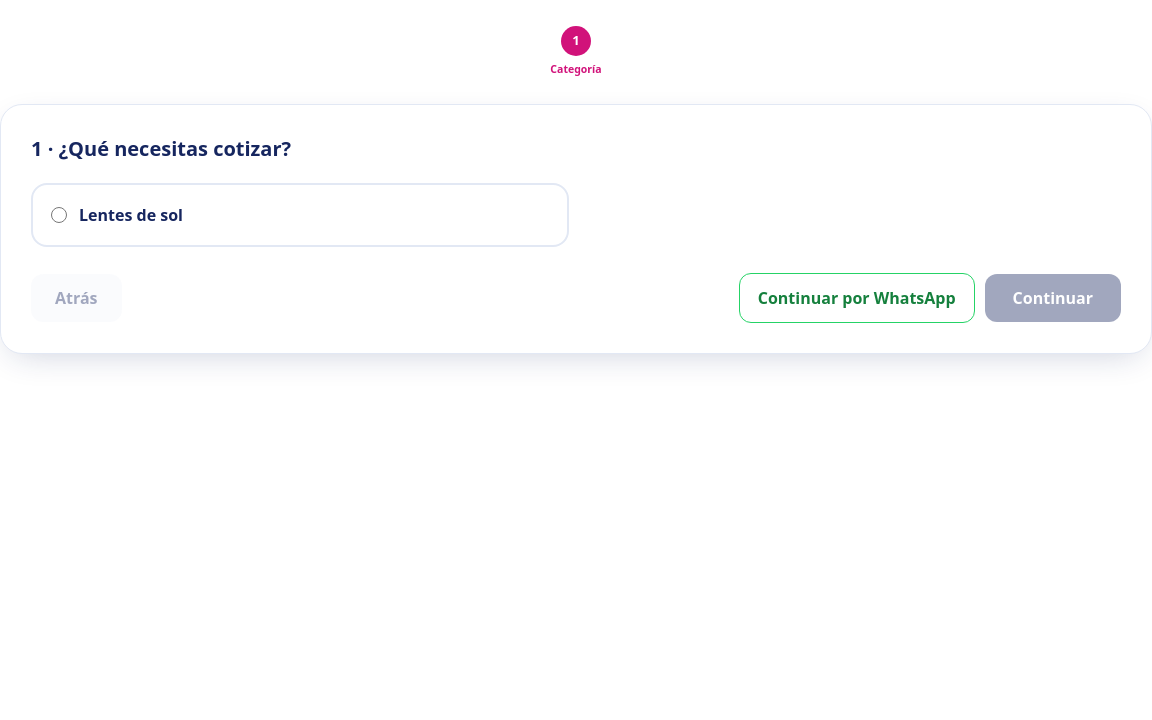
components/quote/QuoteWizard › flujo solar: el paso de cristal muestra Sin graduación/Solar monofocal/Solar progresivo, nunca Bifocal
Click the radio button labelled "Lentes de sol".
click(59, 215)  # box [51,207,67,223]
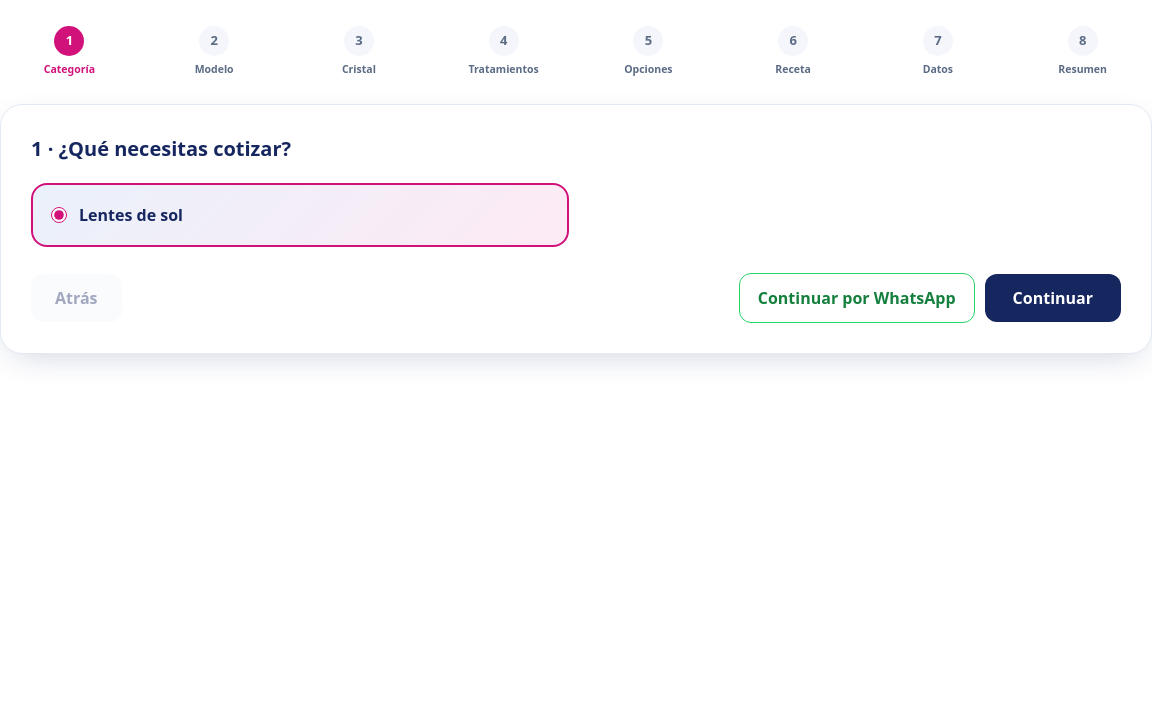
Click the button "Continuar".
click(1053, 298)  # box [985,274,1121,322]
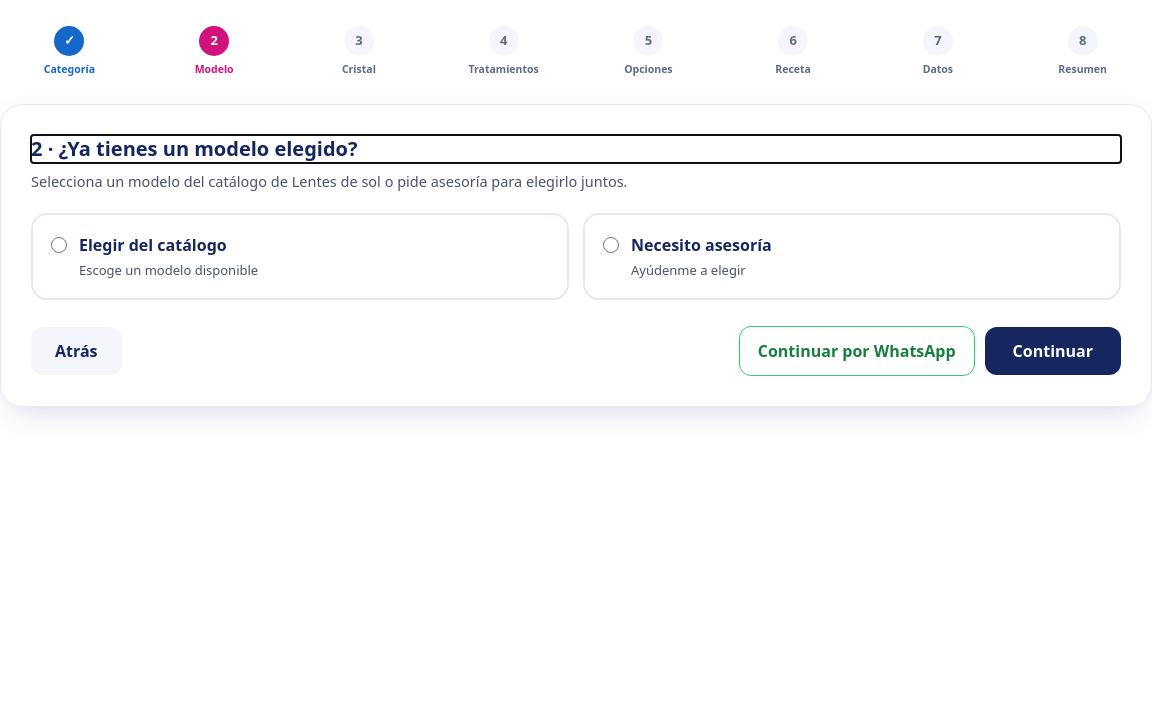
Click the radio button labelled "Necesito asesoría".
click(611, 244)  # box [603,236,619,252]
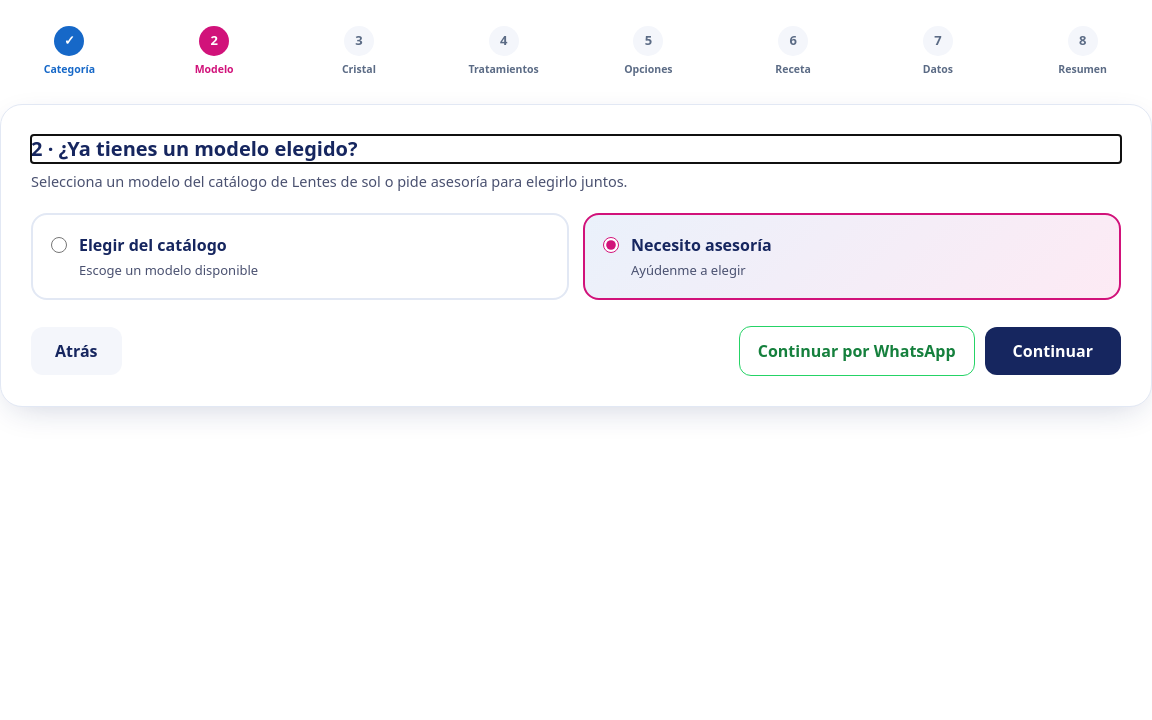
Click the button "Continuar".
click(1053, 351)  # box [985,327,1121,375]
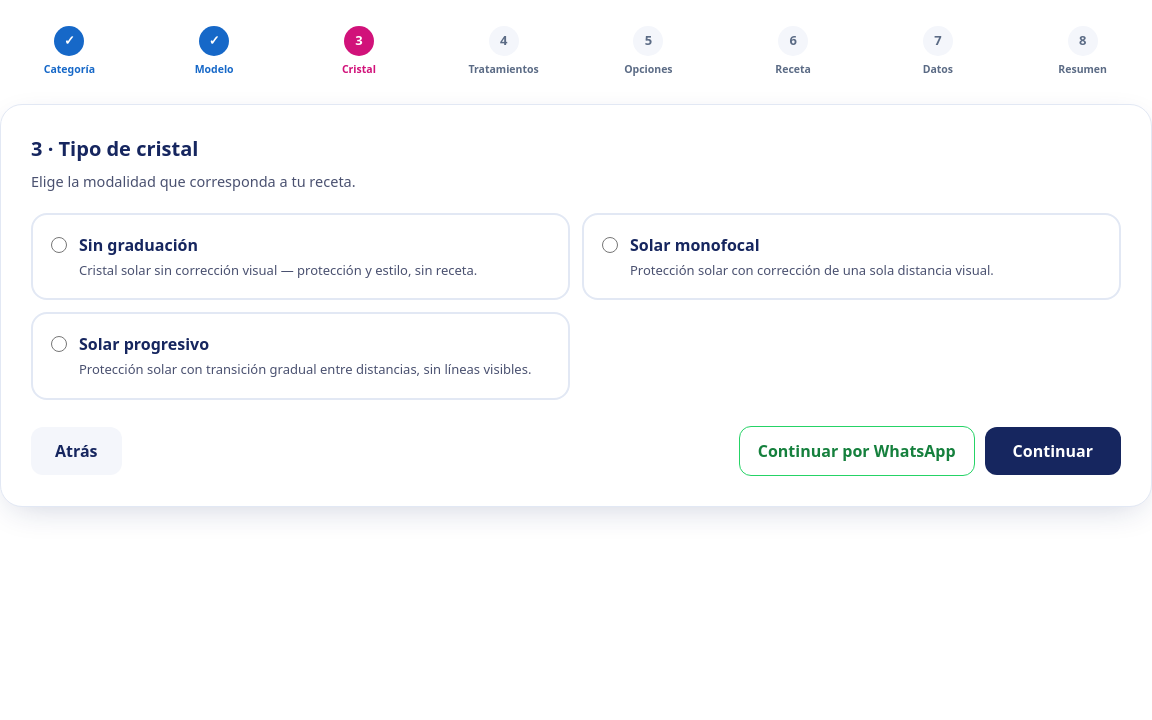
expect the radio button labelled "Sin graduación" is shown: met, box [51,236,67,252]
expect the radio button labelled "Solar monofocal" is shown: met, box [602,236,618,252]
expect the radio button labelled "Solar progresivo" is shown: met, box [51,336,67,352]
